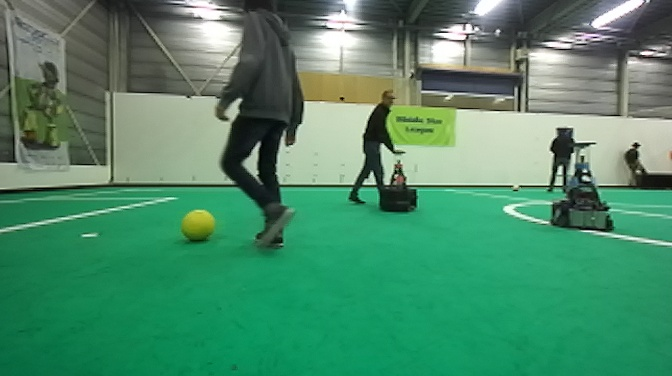ball: (178, 207, 216, 245), (509, 181, 520, 193)
human: (209, 1, 309, 251), (346, 89, 407, 206), (546, 127, 578, 193), (623, 139, 649, 188)
robot: (549, 140, 617, 231), (379, 148, 419, 216)
